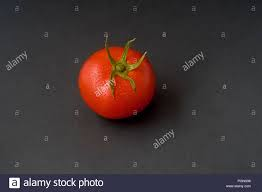tomato: (78, 46, 156, 116)
